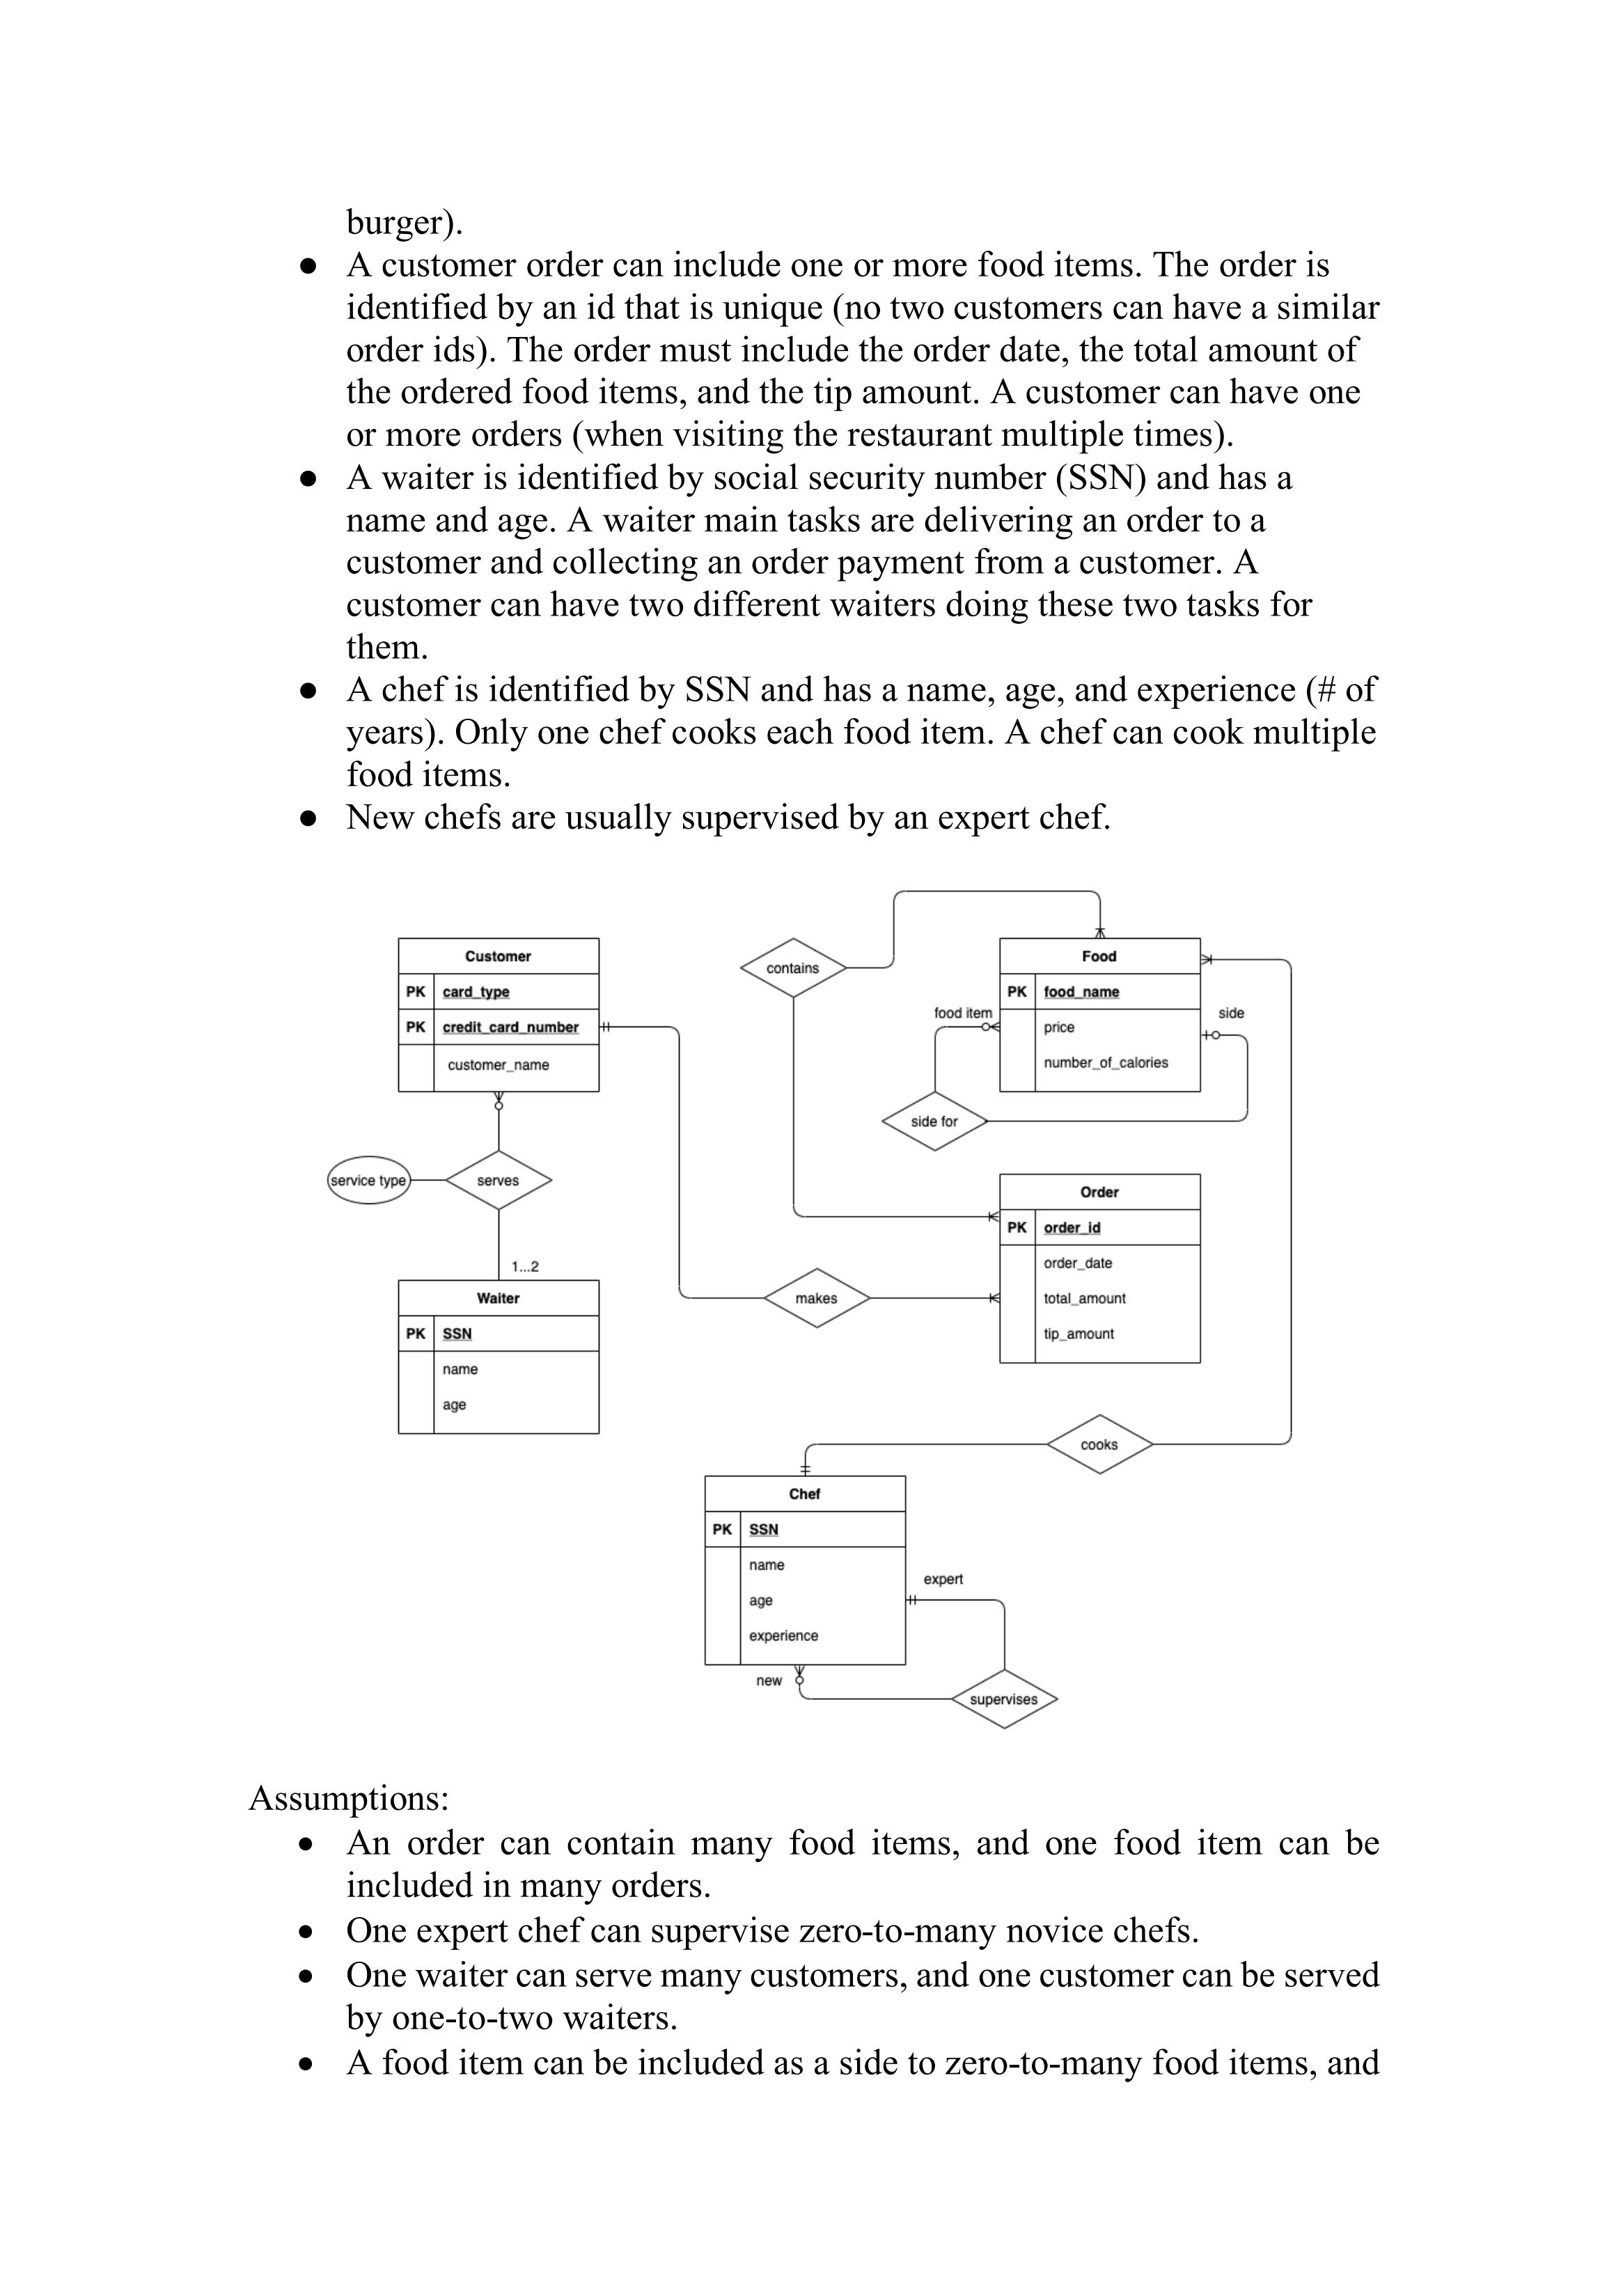Attribute: (327, 1156, 413, 1205)
Entity: (704, 1474, 908, 1667), (998, 1172, 1201, 1365), (397, 936, 601, 1093), (397, 1279, 601, 1435), (998, 936, 1201, 1093)
Relationship: (762, 1267, 871, 1330), (739, 936, 848, 998), (444, 1149, 552, 1210), (880, 1091, 989, 1151), (1047, 1412, 1152, 1474), (952, 1669, 1059, 1729)
